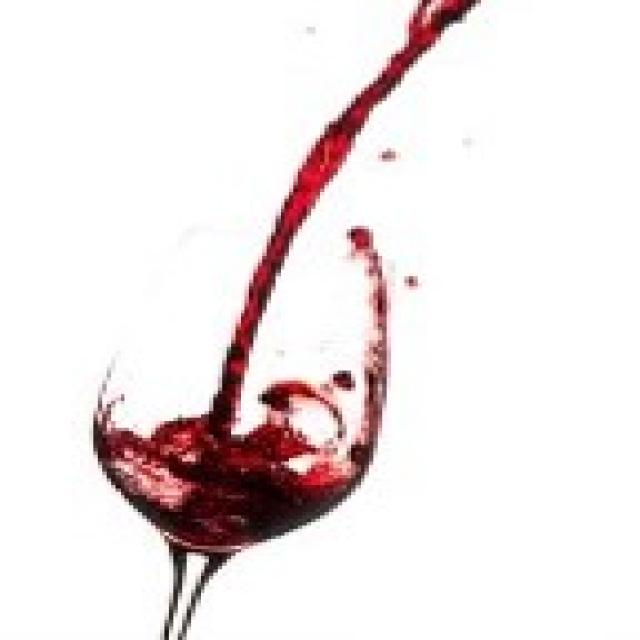electronic: (81, 215, 390, 640)
